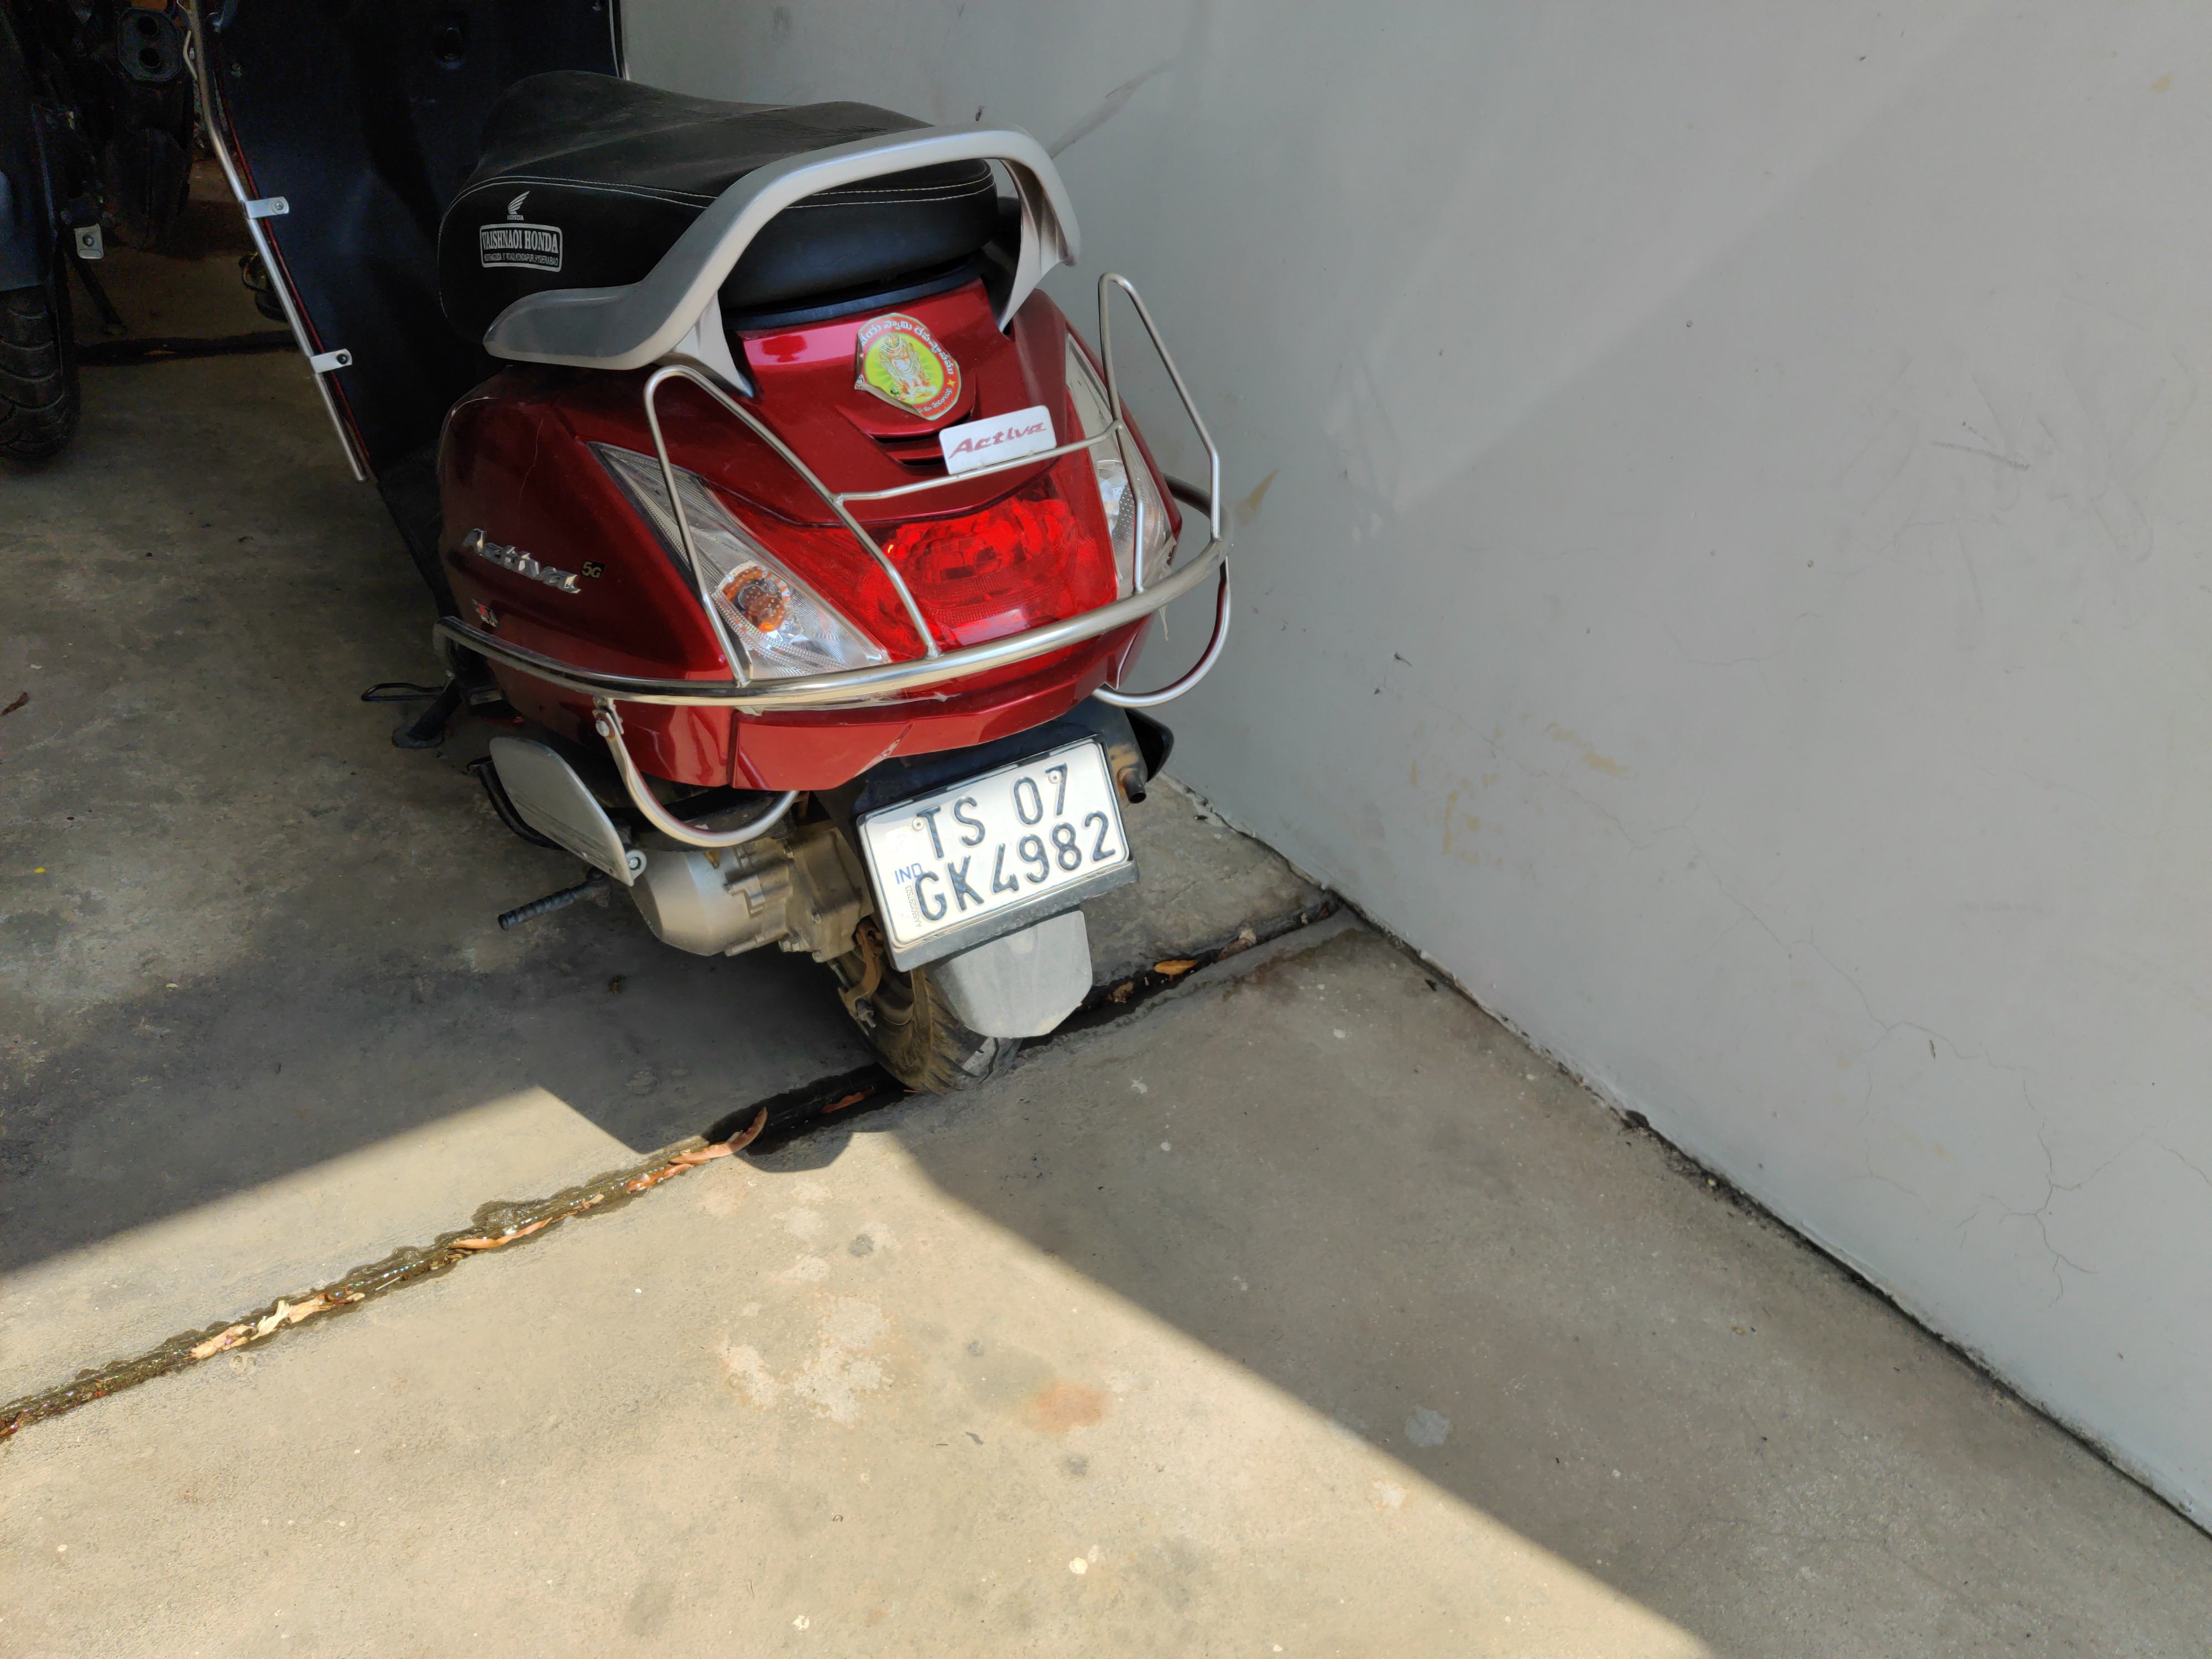plate: (834, 739, 1185, 969)
